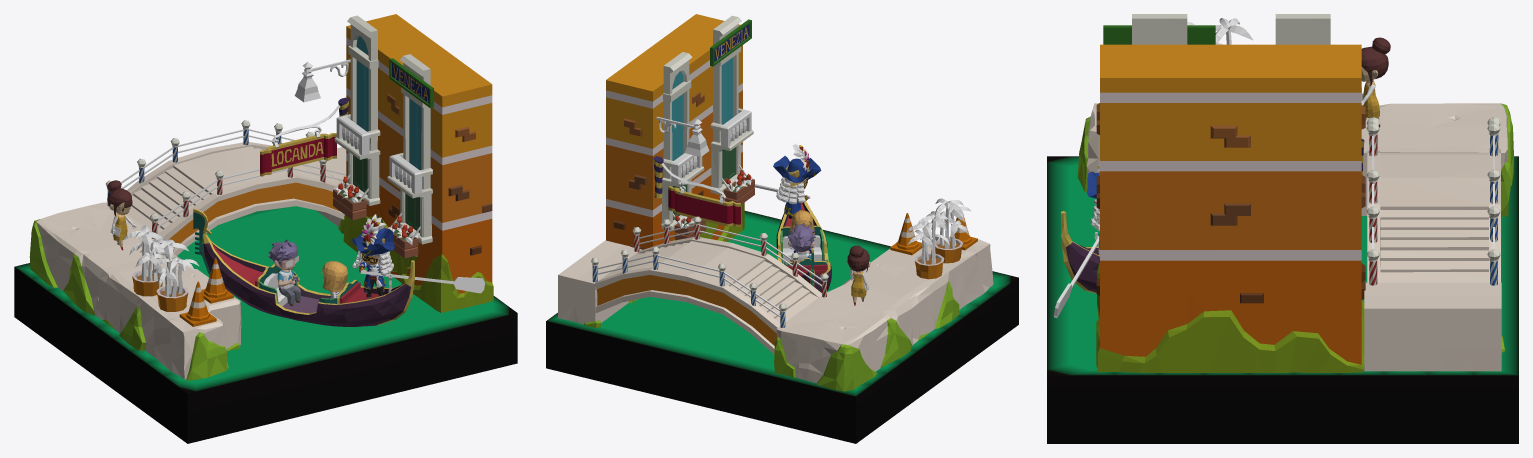
File: 0070_venetia.fbx
3 renders of one model, left to right at view 1: azimuth 30°, elevation 25°; view 2: azimuth 150°, elevation 25°; view 3: azimuth 270°, elevation 25°, orthographic. The views are drawn at different scales.
Parts seen in each view (by area): view 1: [water]Water, building, Bridge, concrete1_B, concrete1_A, window_Arch (×2), gondola_boat_R, gondola_boat_L, window_green (×2), locanda_sign, safetycone (×2), flowerPot (×2) (+11 smaller); view 2: [water]Water, building, Bridge, concrete1_A, concrete1_B, window_Arch (×2), concrete2, locanda_sign, window_green (×2), palmTree_pot (×2), Sign_venezia, gondola_boat_R (+8 smaller); view 3: building, [water]Water, Bridge, concrete2, concrete1_A, window_Arch (×2), gondola_boat_R, concrete1_B, Sign_venezia, OpsWoman_Head, gondola_oar.
Part boxes in pixels (x1,y1,x2,y2): [water]Water: [14, 206, 517, 443]; building: [343, 14, 493, 312]; Bridge: [126, 142, 344, 255]; concrete1_B: [97, 254, 241, 380]; concrete1_A: [29, 202, 174, 316]; window_Arch (×2): [334, 15, 432, 198]; gondola_boat_R: [296, 260, 414, 326]; gondola_boat_L: [202, 233, 318, 320]; window_green (×2): [344, 151, 432, 244]; locanda_sign: [260, 133, 336, 176]; safetycone (×2): [179, 258, 233, 326]; flowerPot (×2): [333, 174, 420, 258]; [water]Water: [546, 211, 1018, 443]; building: [606, 14, 744, 249]; Bridge: [595, 236, 821, 354]; concrete1_A: [774, 284, 913, 391]; concrete1_B: [843, 236, 993, 343]; window_Arch (×2): [662, 15, 753, 186]; concrete2: [558, 240, 642, 327]; locanda_sign: [668, 186, 740, 227]; window_green (×2): [661, 143, 740, 230]; palmTree_pot (×2): [915, 237, 963, 279]; Sign_venezia: [710, 19, 751, 66]; gondola_boat_R: [776, 201, 828, 263]; building: [1096, 44, 1365, 372]; [water]Water: [1047, 156, 1518, 443]; Bridge: [1367, 148, 1500, 282]; concrete2: [1364, 282, 1504, 371]; concrete1_A: [1361, 103, 1513, 216]; window_Arch (×2): [1132, 14, 1330, 44]; gondola_boat_R: [1061, 211, 1099, 293]; concrete1_B: [1077, 103, 1099, 192]; Sign_venezia: [1103, 25, 1215, 44]; OpsWoman_Head: [1361, 37, 1390, 85]; gondola_oar: [1053, 236, 1099, 317].
Size of the model in its own units: 15.39 by 12.71 by 14.
